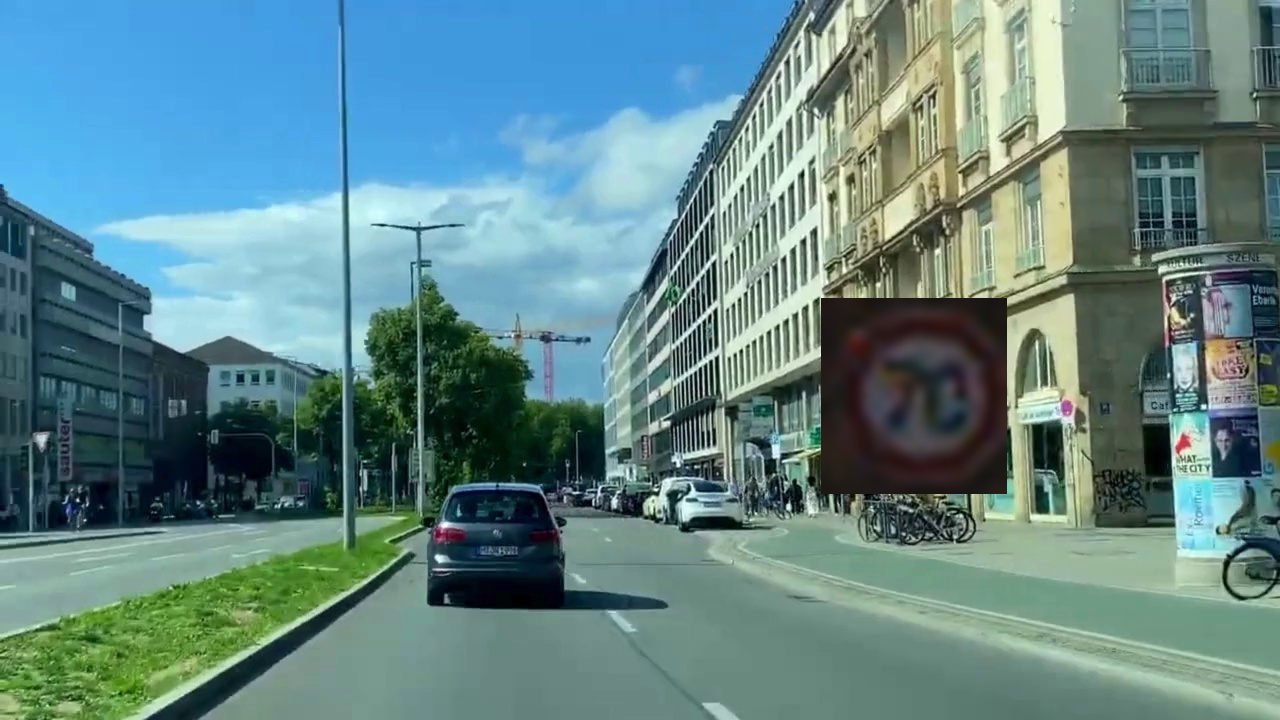Speed 70: (821, 298, 1007, 494)
